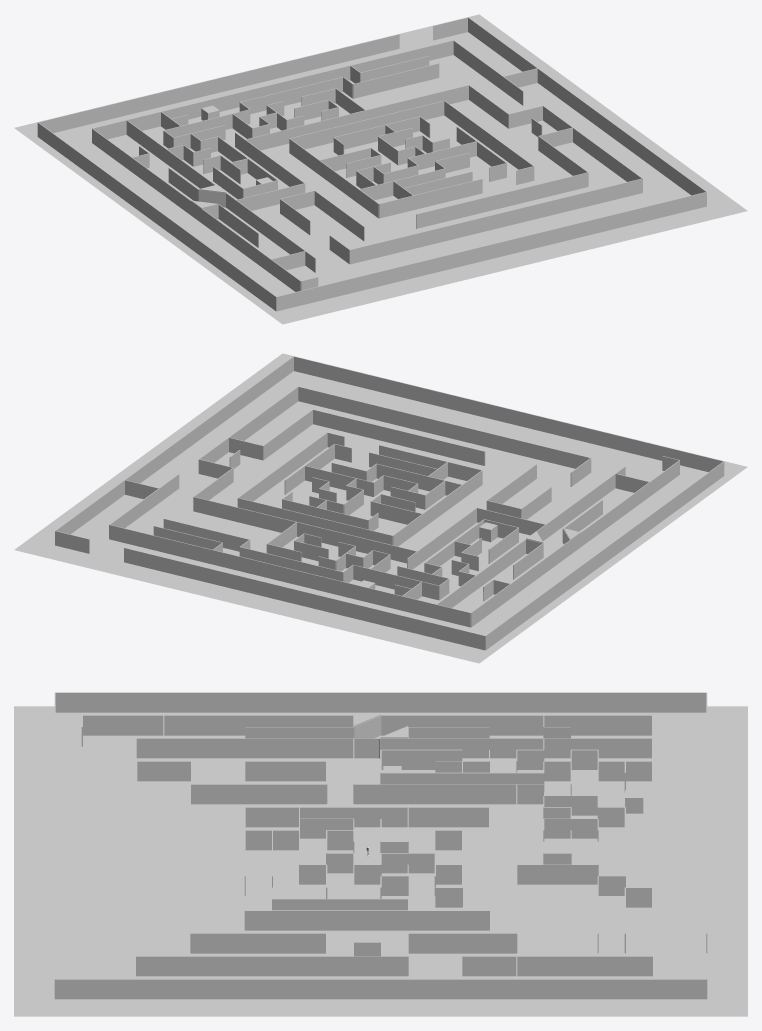
The model's file is Maze.fbx.
3 views of the same model, one above another, from view 1: azimuth 30°, elevation 25°; view 2: azimuth 150°, elevation 25°; view 3: azimuth 270°, elevation 25° (orthographic). The views are drawn at different scales.
Parts seen in each view (by area): view 1: Plane, Cube.099, Cube.097, Cube.051, Cube.059, Cube.100, Cube.102, Cube.033, Cube.039, Cube.017, Cube.015, Cube.058 (+27 smaller); view 2: Plane, Cube.099, Cube.097, Cube.059, Cube.051, Cube.100, Cube.039, Cube.033, Cube.102, Cube.017, Cube.058, Cube.018 (+26 smaller); view 3: Plane, Cube.100, Cube.102, Cube.018, Cube.058, Cube.098, Cube.040, Cube.013, Cube.054, Cube.060, Cube.052, Cube.104 (+44 smaller).
Boxes of the visible parts, left/top/right/bottom form: Plane: left=14, top=14, right=747, bottom=324; Cube.099: left=276, top=192, right=706, bottom=311; Cube.097: left=38, top=34, right=399, bottom=133; Cube.051: left=350, top=178, right=642, bottom=264; Cube.059: left=92, top=40, right=453, bottom=139; Cube.100: left=37, top=122, right=276, bottom=310; Cube.102: left=468, top=17, right=646, bottom=162; Cube.033: left=416, top=172, right=588, bottom=228; Cube.039: left=245, top=85, right=468, bottom=150; Cube.017: left=289, top=100, right=444, bottom=149; Cube.015: left=379, top=179, right=482, bottom=218; Cube.058: left=92, top=128, right=191, bottom=215; Plane: left=14, top=353, right=747, bottom=663; Cube.099: left=294, top=356, right=723, bottom=472; Cube.097: left=124, top=547, right=485, bottom=650; Cube.059: left=109, top=525, right=470, bottom=627; Cube.051: left=298, top=386, right=590, bottom=468; Cube.100: left=485, top=461, right=724, bottom=649; Cube.039: left=193, top=497, right=416, bottom=563; Cube.033: left=313, top=409, right=485, bottom=465; Cube.102: left=55, top=400, right=234, bottom=534; Cube.017: left=237, top=498, right=392, bottom=545; Cube.058: left=471, top=540, right=570, bottom=627; Cube.018: left=238, top=432, right=327, bottom=501; Plane: left=14, top=706, right=747, bottom=1016; Cube.100: left=55, top=692, right=706, bottom=712; Cube.102: left=218, top=979, right=706, bottom=999; Cube.018: left=245, top=910, right=489, bottom=930; Cube.058: left=381, top=715, right=651, bottom=735; Cube.098: left=462, top=956, right=652, bottom=976; Cube.040: left=354, top=784, right=543, bottom=804; Cube.013: left=300, top=807, right=489, bottom=827; Cube.054: left=218, top=738, right=380, bottom=758; Cube.060: left=381, top=738, right=598, bottom=758; Cube.052: left=164, top=715, right=353, bottom=735; Cube.104: left=136, top=956, right=272, bottom=976.
Size of the model in its own units: 27035 by 895 by 27035.
